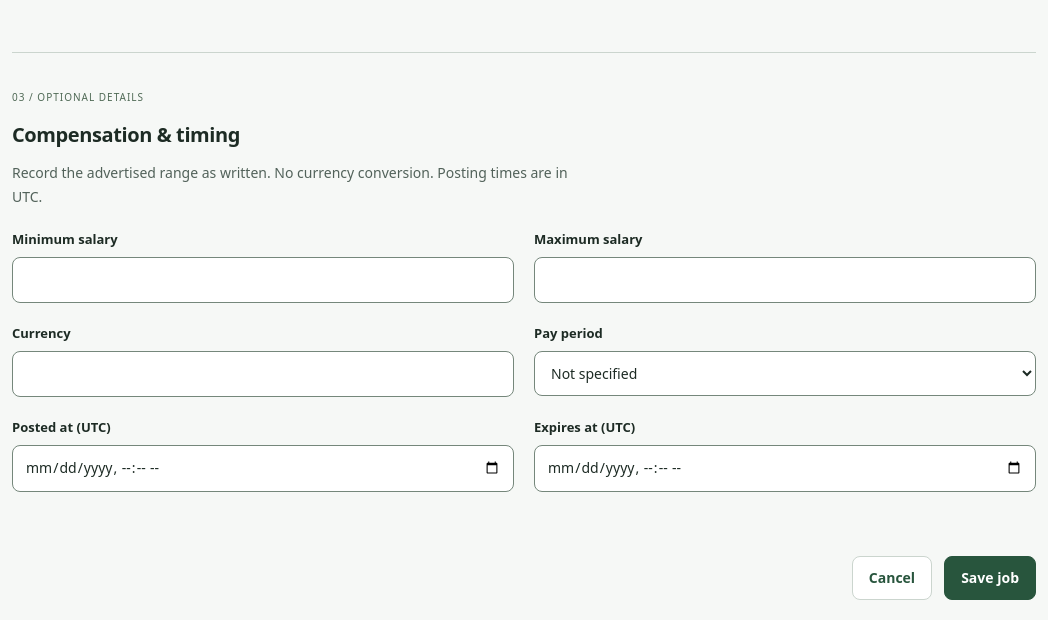
Test: requires a job title and an owned company selection
(page scrolled)
Click the button "Save job".
click(990, 578)  # box [944,556,1036,600]
(page scrolled)
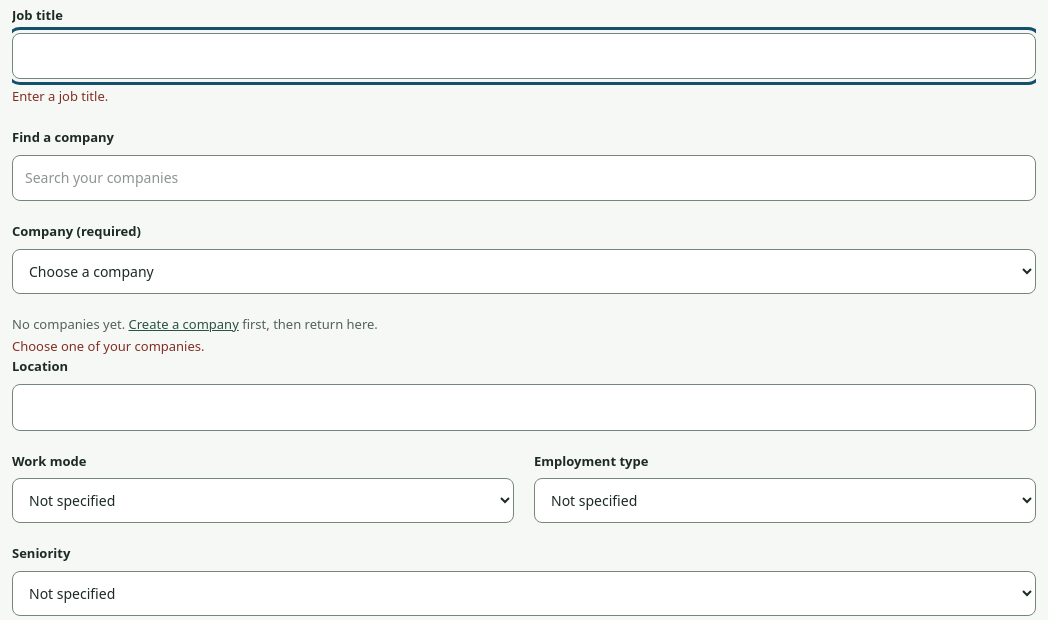
Expected: the text "Enter a job title." is shown, [12,87,108,105]
Expected: the text "Choose one of your companies." is shown, [12,337,204,355]
Expected: the text "No companies yet. Create a company first, then return here." is shown, [12,315,378,333]
